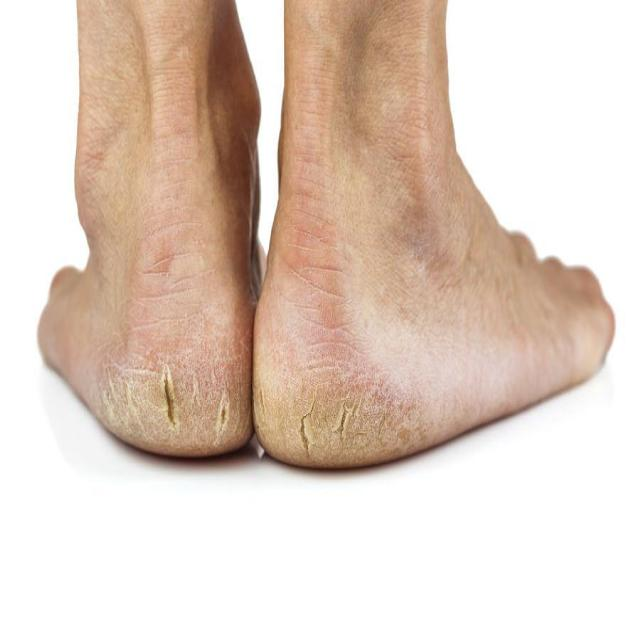Dry-Skin: (79, 330, 425, 492)
